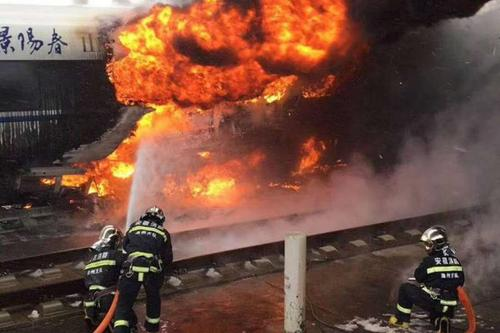fire: (113, 10, 327, 186)
smoke: (367, 13, 483, 148)
